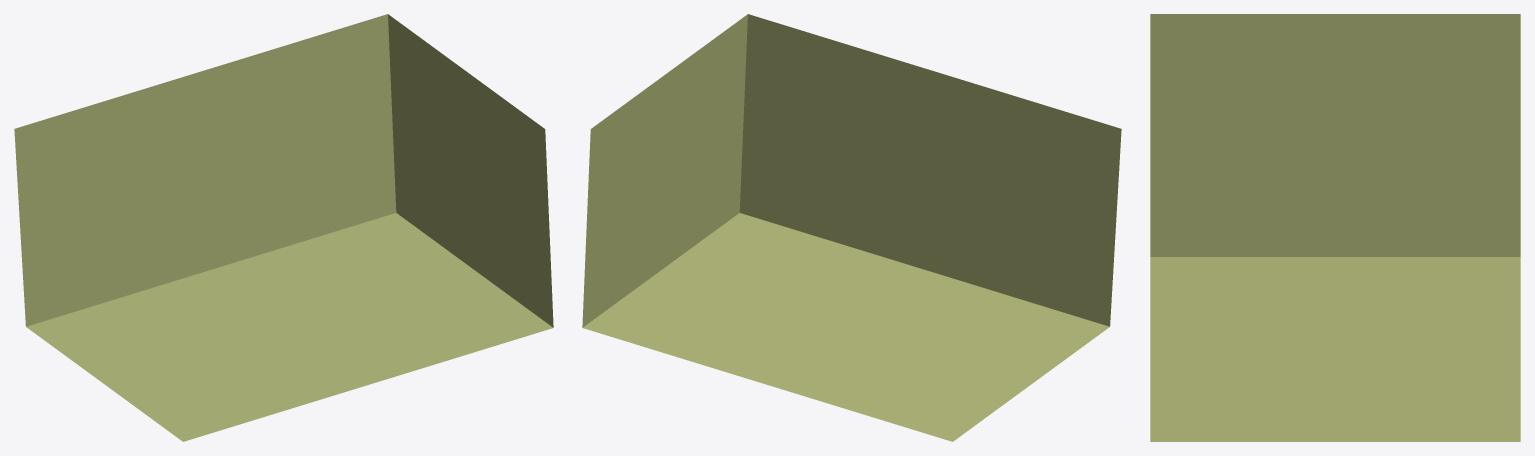
The picture shows the model from 3 angles, left to right: view 1: azimuth 30°, elevation 25°; view 2: azimuth 150°, elevation 25°; view 3: azimuth 270°, elevation 25°; orthographic projection. The views are drawn at different scales.
Parts seen in each view (by area): view 1: 0_1_2_0_0_2_3_2_3_2_2; view 2: 0_1_2_0_0_2_3_2_3_2_2; view 3: 0_1_2_0_0_2_3_2_3_2_2.
Part boxes in pixels (box(x1,y1,x2,y2)): 0_1_2_0_0_2_3_2_3_2_2: box(14, 14, 553, 441); 0_1_2_0_0_2_3_2_3_2_2: box(582, 14, 1121, 441); 0_1_2_0_0_2_3_2_3_2_2: box(1150, 14, 1520, 441).
Size of the model in its own units: 12.62 by 7.09 by 9.
